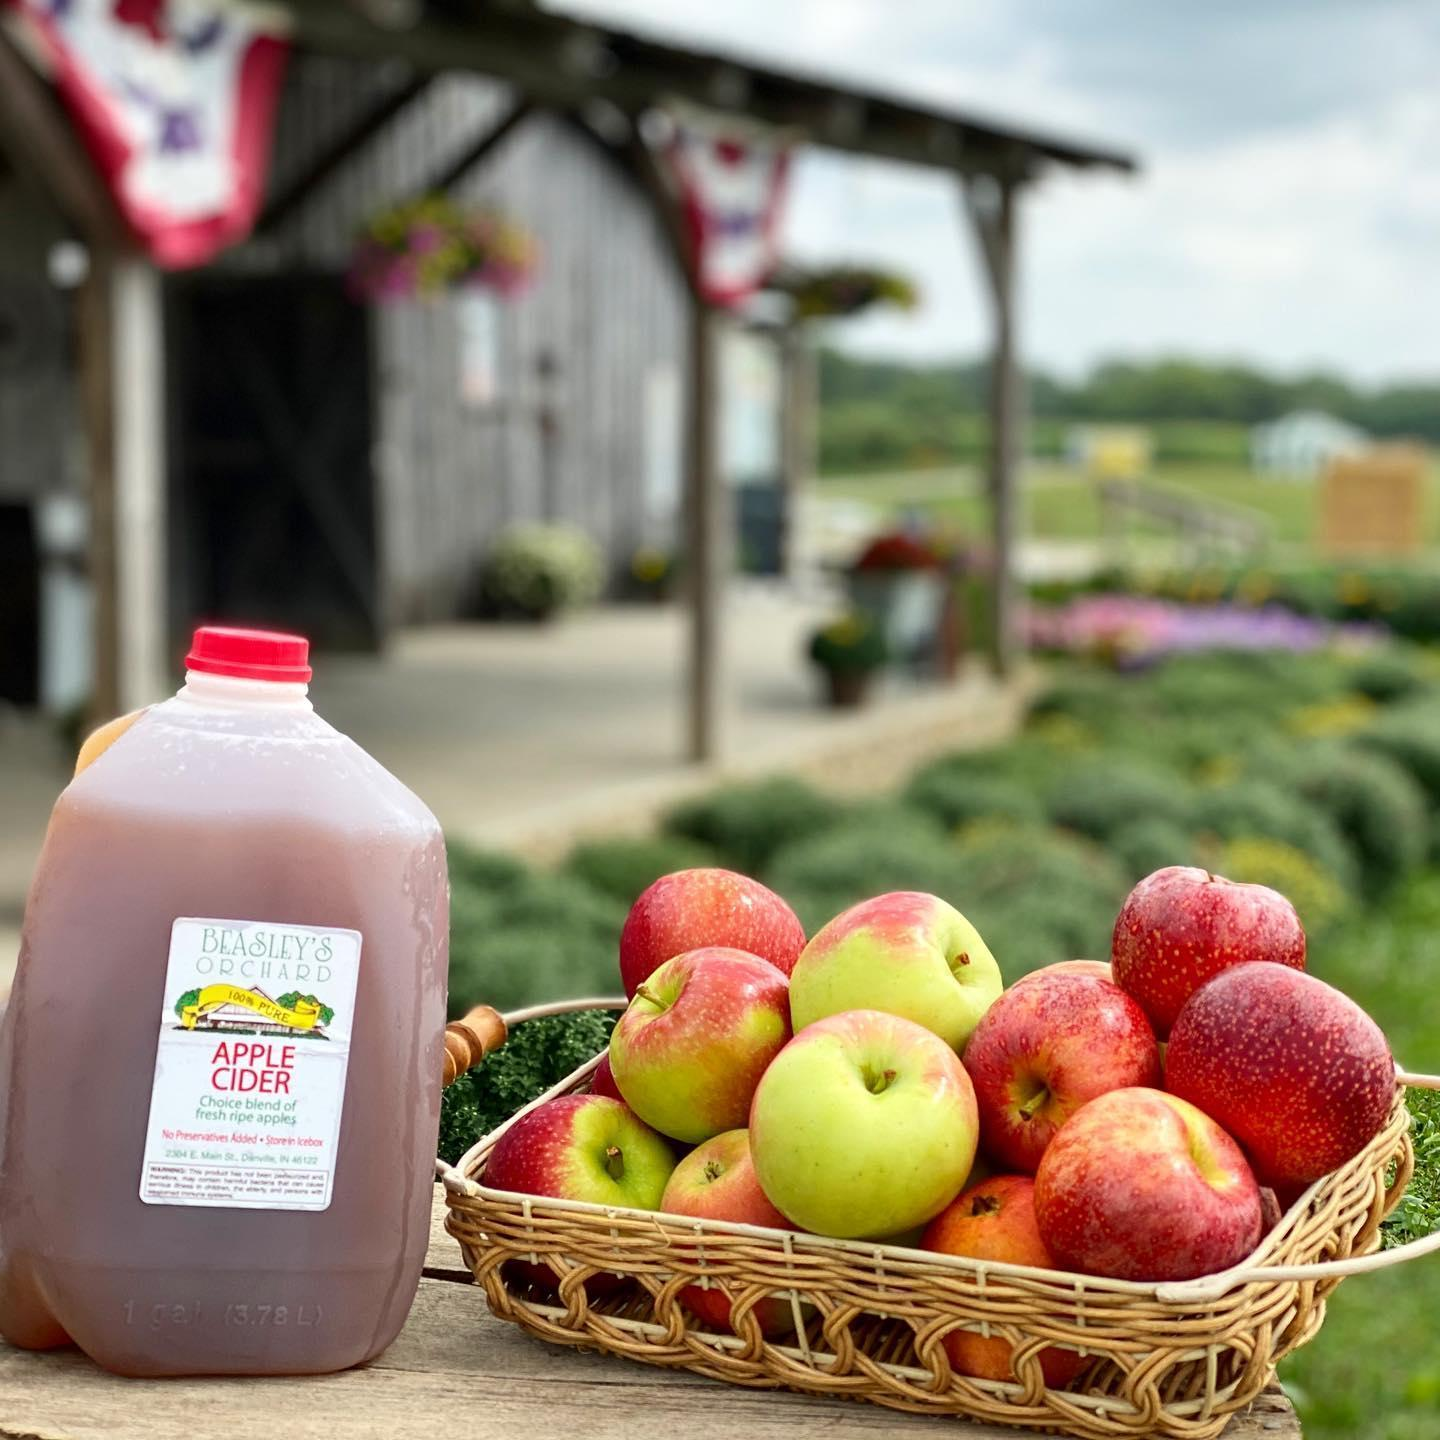apple: (744, 1011, 976, 1244), (1154, 960, 1391, 1182), (964, 951, 1164, 1163), (1044, 1093, 1262, 1280), (789, 889, 1000, 1062), (607, 947, 795, 1138), (1114, 865, 1304, 1023), (621, 869, 802, 1021), (497, 1096, 669, 1220)
